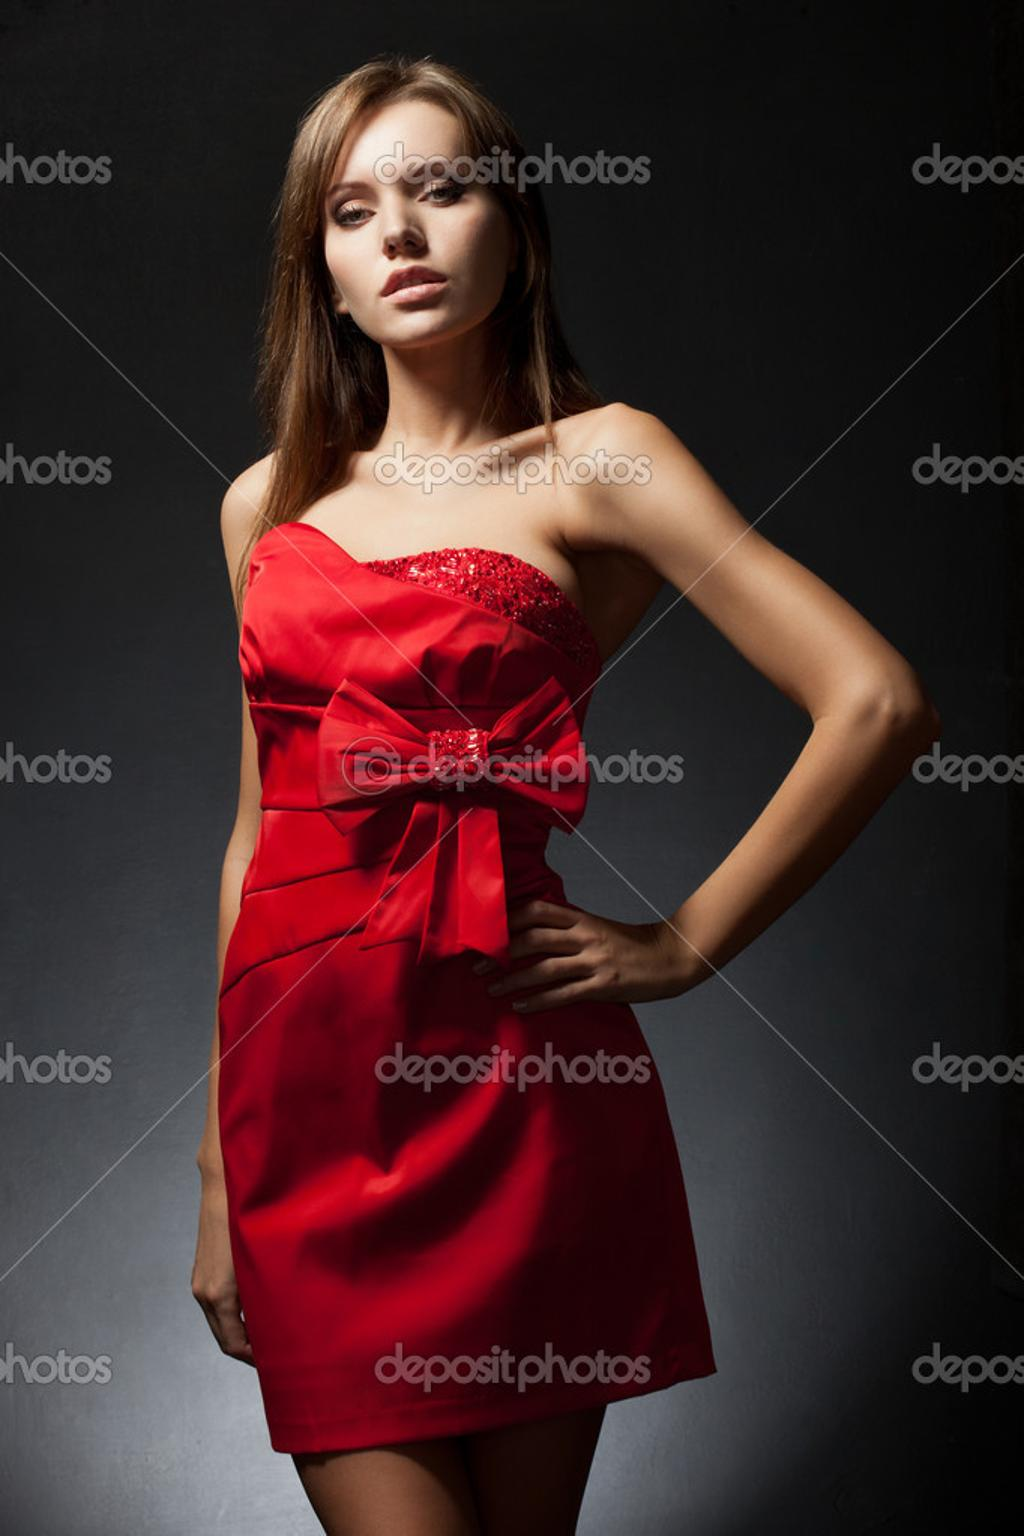face: (318, 102, 510, 345)
